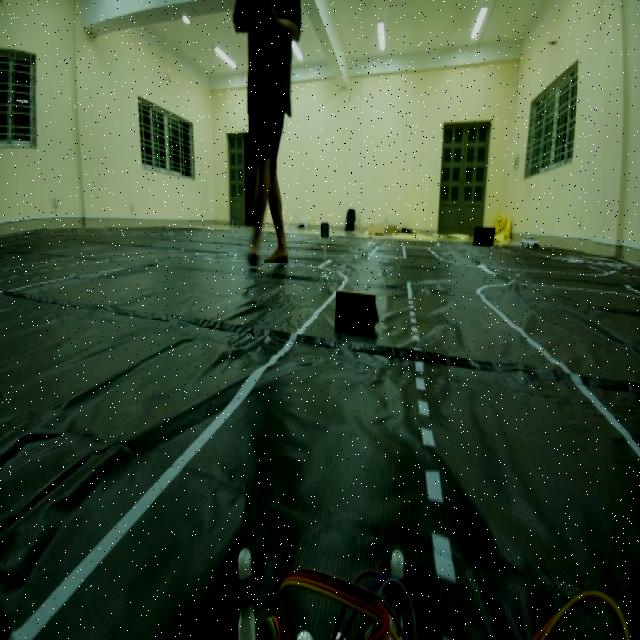roadblock: (330, 281, 382, 343)
